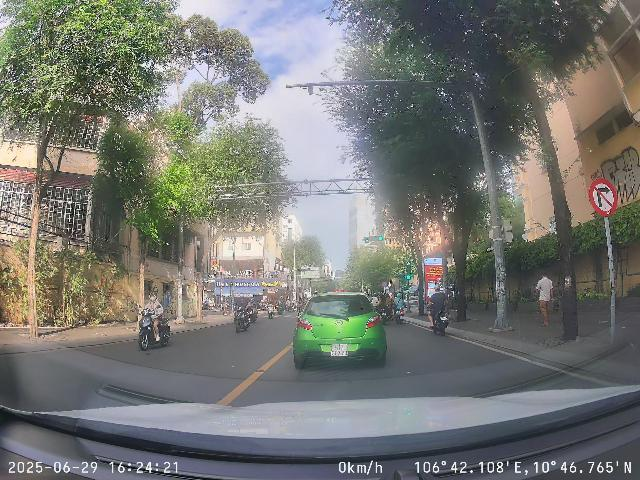123b-cam-re-phai: (589, 177, 618, 217)
